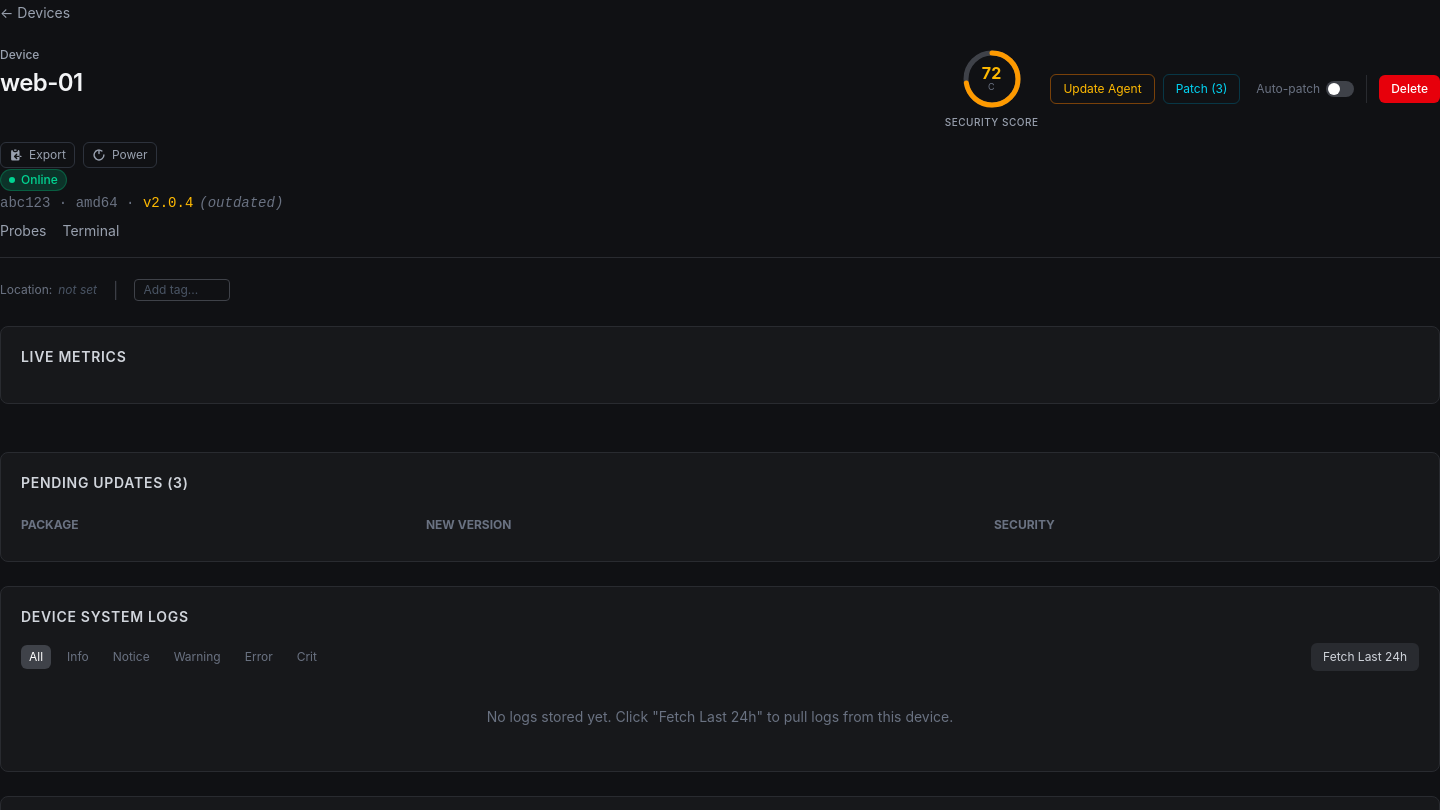
Test case: [UIF AC-074] delete success navigates and toasts hostname › lands on the Fleet route and shows a success toast naming the hostname
Click the button "Delete": [1410, 88] box 1379,74 -> 1439,102
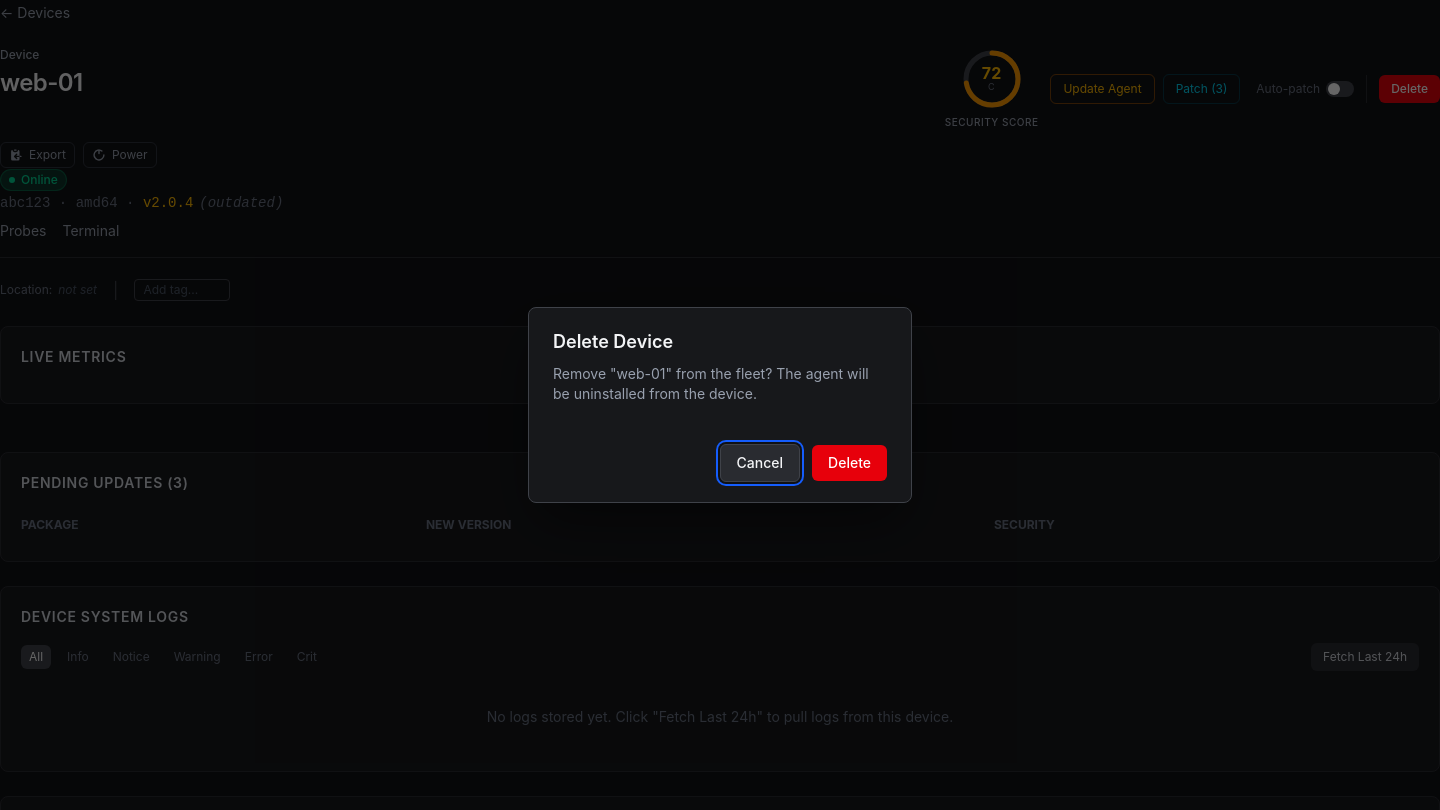
Click the button "Delete": [850, 463] box 812,445 -> 887,481
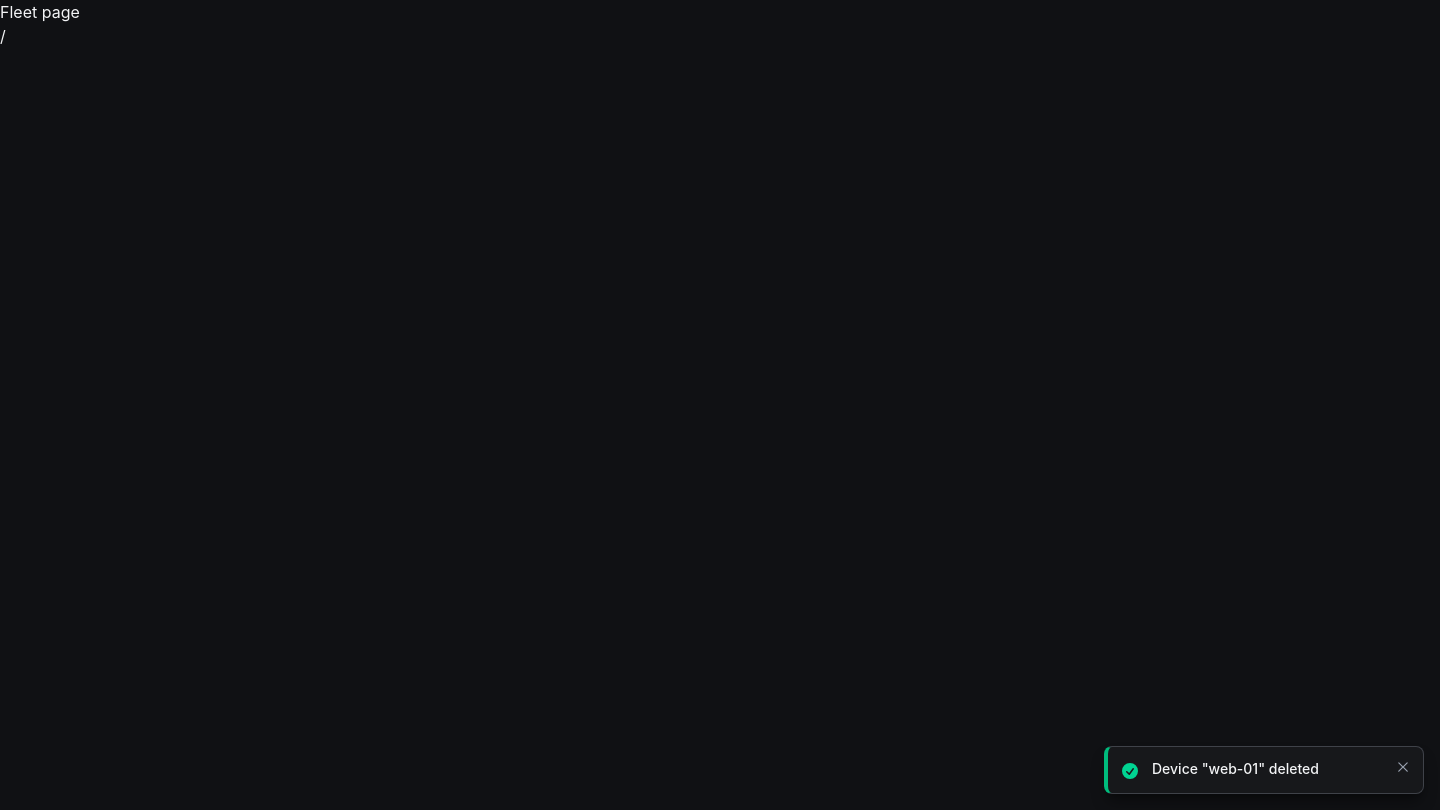
Check: the text with test id "location" reads "/", box 0,26 -> 6,46
Check: the text "Device \"web-01\" deleted" is shown, box 1152,760 -> 1319,777
